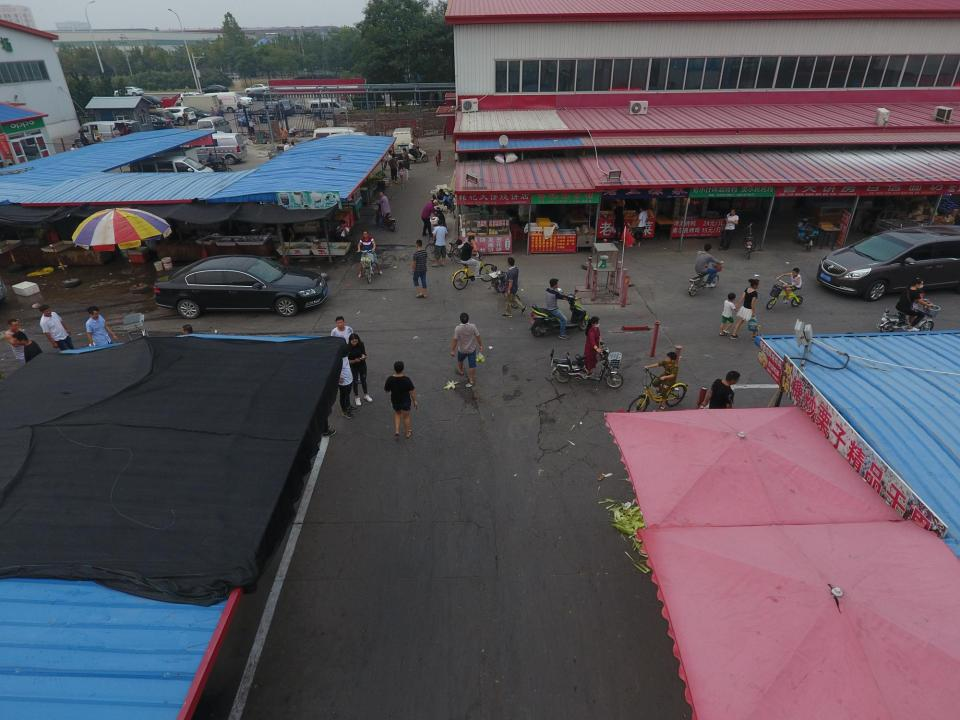car: (153, 254, 329, 320), (129, 114, 173, 132), (167, 106, 211, 121), (258, 101, 286, 123), (246, 88, 284, 102), (132, 95, 166, 109), (218, 92, 255, 104), (198, 84, 230, 96), (235, 108, 255, 126), (276, 99, 296, 116), (114, 86, 144, 97), (243, 84, 270, 96)
truck: (172, 95, 220, 121)
van: (816, 225, 960, 301), (129, 155, 215, 192), (182, 133, 248, 165), (74, 119, 138, 148), (312, 127, 365, 156), (319, 132, 371, 160), (198, 92, 240, 114), (308, 98, 348, 120), (390, 127, 417, 159), (197, 115, 232, 139), (137, 108, 178, 128)
